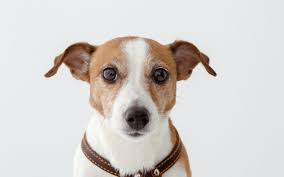dog: (100, 61, 175, 141)
